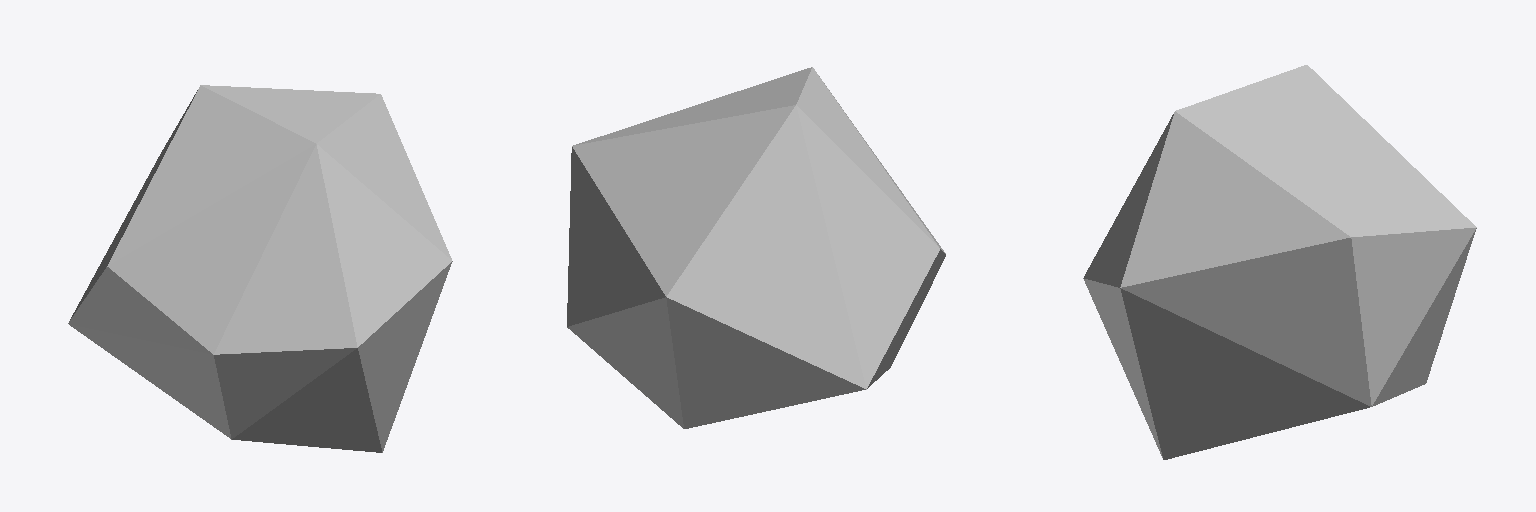
The model's file is Bush_3.obj.
The picture shows the model from 3 angles: view 1: azimuth 30°, elevation 25°; view 2: azimuth 150°, elevation 25°; view 3: azimuth 270°, elevation 25°; orthographic projection.
Visible parts, largest first — view 1: Bush_3_Icosphere.003; view 2: Bush_3_Icosphere.003; view 3: Bush_3_Icosphere.003.
Part boxes in pixels (x1,y1,x2,y2): Bush_3_Icosphere.003: (68, 85, 452, 452); Bush_3_Icosphere.003: (567, 67, 945, 428); Bush_3_Icosphere.003: (1083, 65, 1476, 459).
Size of the model in its own units: 0.9527 by 0.97 by 1.01.